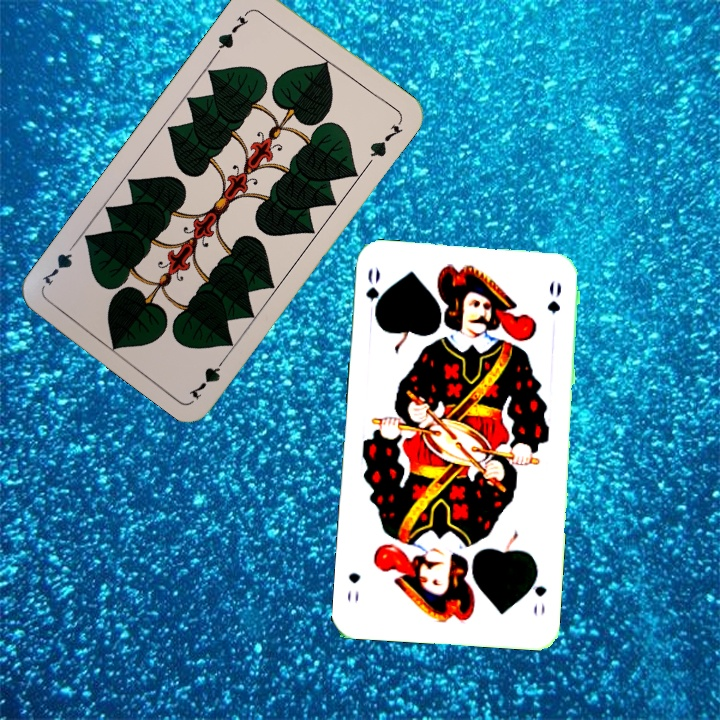G7: (185, 350, 231, 402), (212, 6, 253, 56)
GO: (362, 264, 386, 323), (526, 565, 550, 619)
